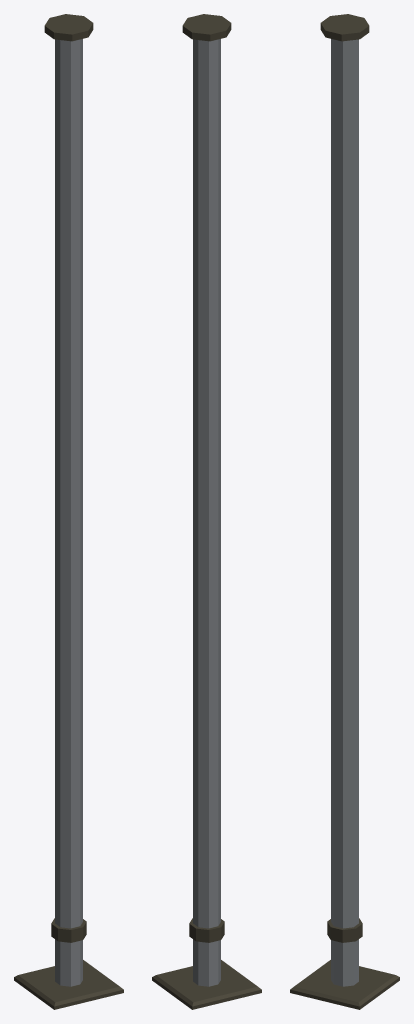
The model's file is SM_Stall_AwningPost_01.fbx.
The picture shows the model from 3 angles, left to right: view 1: azimuth 30°, elevation 25°; view 2: azimuth 210°, elevation 25°; view 3: azimuth 330°, elevation 25°; orthographic projection.
Parts seen in each view (by area): view 1: SM_Stall_AwningPost_01; view 2: SM_Stall_AwningPost_01; view 3: SM_Stall_AwningPost_01.
Boxes of the visible parts, left/top/right/bottom form: SM_Stall_AwningPost_01: left=14, top=14, right=123, bottom=1009; SM_Stall_AwningPost_01: left=152, top=14, right=261, bottom=1009; SM_Stall_AwningPost_01: left=290, top=14, right=399, bottom=1009.
Bounding box in the file's own units: 0.17 × 2.25 × 0.17.
Materials: 1 (1 with a texture image).
